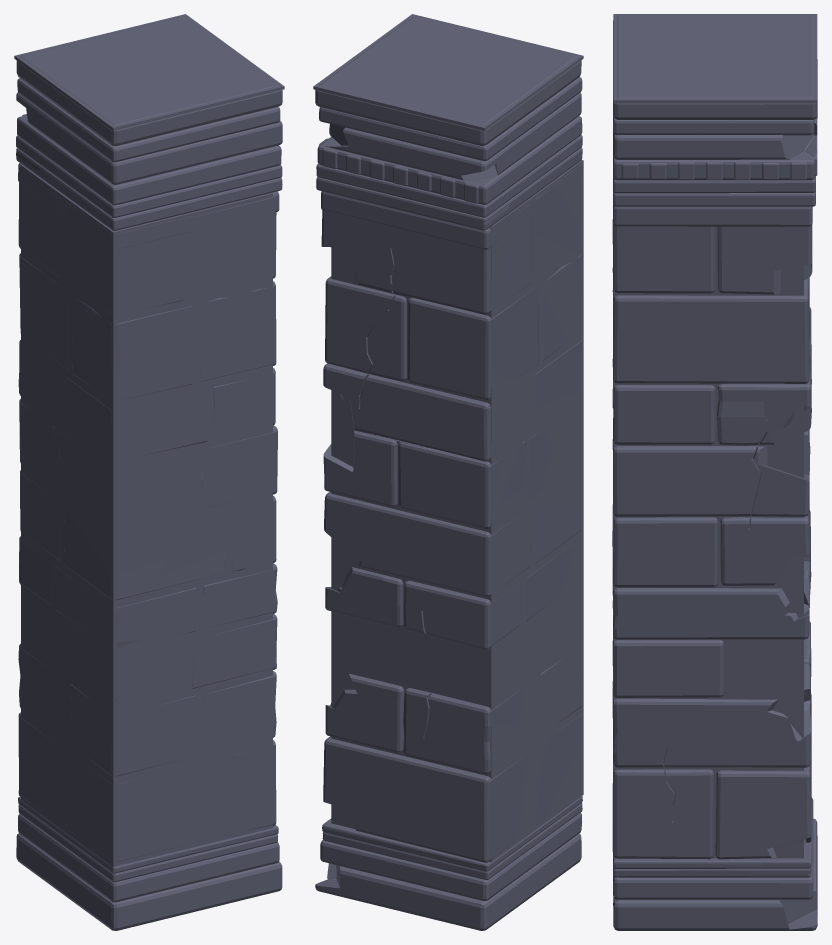
File: SM_Cripta_Canto.glb
3 views of the same model, side by side, from view 1: azimuth 30°, elevation 25°; view 2: azimuth 150°, elevation 25°; view 3: azimuth 270°, elevation 25° (orthographic). The views are drawn at different scales.
Parts seen in each view (by area): view 1: SM_Cripta_Canto; view 2: SM_Cripta_Canto; view 3: SM_Cripta_Canto.
Part boxes in pixels (<box>): SM_Cripta_Canto: <box>14,14,284,930</box>; SM_Cripta_Canto: <box>313,14,583,930</box>; SM_Cripta_Canto: <box>612,14,817,930</box>.
Size of what is drawn, in the model's own units: 1.21 by 5.4 by 1.21.
